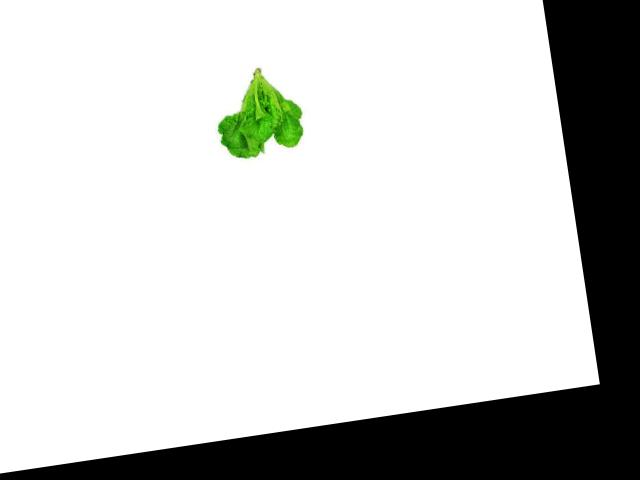lettuce: (205, 60, 311, 167)
